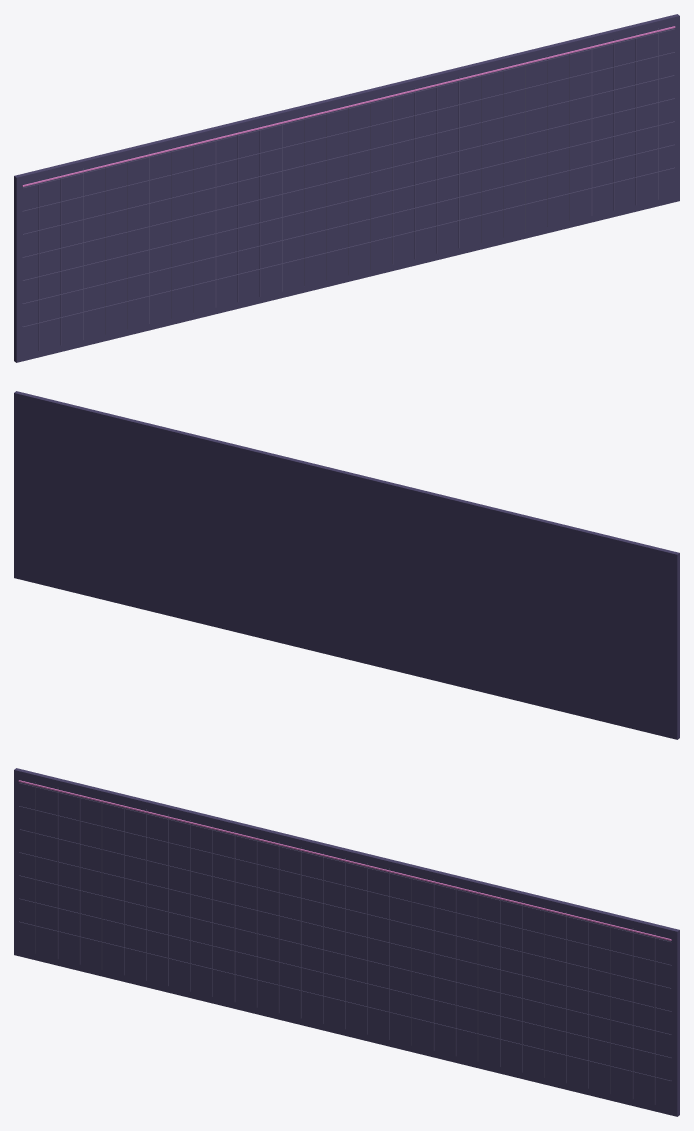
File: pared_arcade.glb
3 renders of one model, top to bottom at view 1: azimuth 30°, elevation 25°; view 2: azimuth 150°, elevation 25°; view 3: azimuth 330°, elevation 25°, orthographic.
Parts seen in each view (by area): view 1: pared_arcade; view 2: pared_arcade; view 3: pared_arcade.
Boxes of the visible parts, bbox=[...] form: pared_arcade: bbox=[14, 14, 679, 362]; pared_arcade: bbox=[14, 391, 679, 739]; pared_arcade: bbox=[14, 768, 679, 1116].
Size of the model in its own units: 60 by 16 by 0.55.
